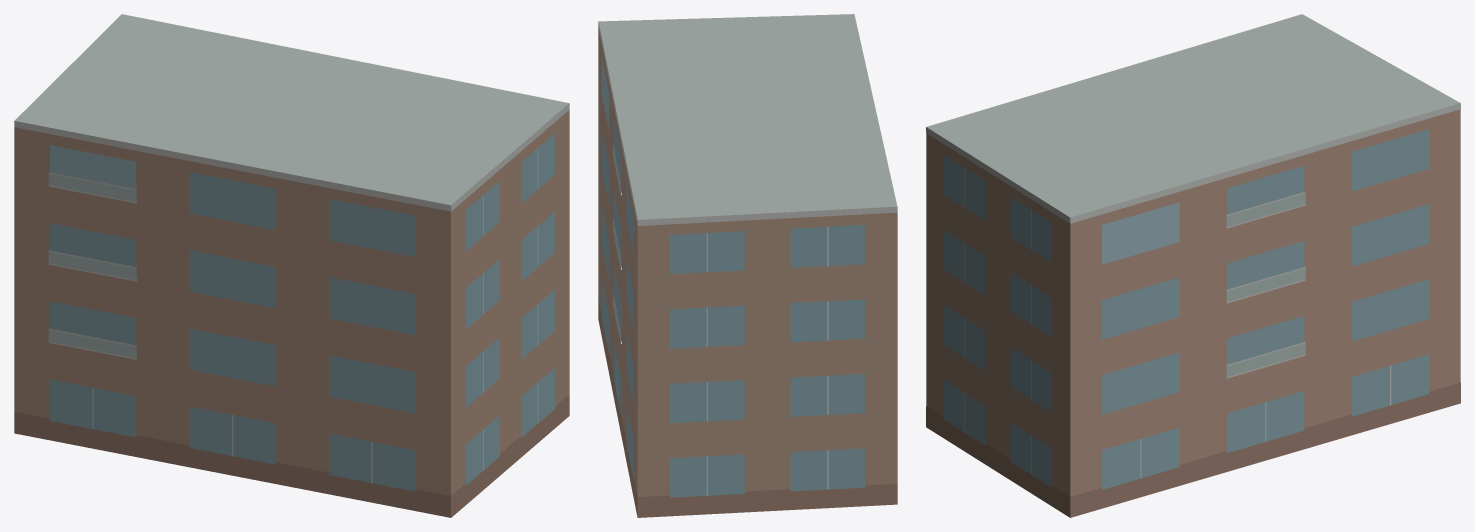
File: survey-upis-32823537.glb
The picture shows the model from 3 angles, left to right: view 1: azimuth 30°, elevation 25°; view 2: azimuth 150°, elevation 25°; view 3: azimuth 270°, elevation 25°; orthographic projection. The views are drawn at different scales.
Parts seen in each view (by area): view 1: survey-upis-32823537.tmp; view 2: survey-upis-32823537.tmp; view 3: survey-upis-32823537.tmp.
Part boxes in pixels (x1,y1,x2,y2): survey-upis-32823537.tmp: (14, 14, 569, 517); survey-upis-32823537.tmp: (598, 14, 897, 517); survey-upis-32823537.tmp: (926, 14, 1460, 517).
Bounding box in the file's own units: 17.47 × 12 × 19.38.
